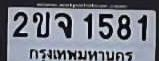1: (137, 14, 146, 40), (83, 12, 91, 38)
2: (12, 11, 27, 36)
5: (98, 13, 112, 38)
8: (116, 14, 130, 39)
A02: (32, 11, 49, 37)
A08: (54, 12, 71, 37)
BKK: (26, 46, 135, 61)
